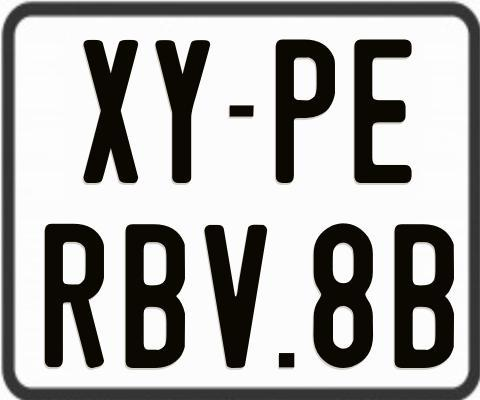8: (311, 222, 377, 367)
B: (392, 223, 451, 370), (124, 221, 183, 366)
E: (352, 37, 410, 182)
P: (274, 38, 339, 185)
R: (43, 222, 104, 369)
V: (203, 223, 270, 372)
X: (83, 37, 140, 184)
Y: (152, 38, 208, 183)
